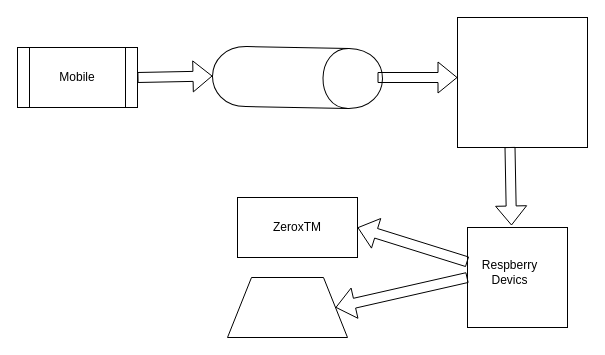
Some shapes in this 605 by 355 pixel diagram are drawn without their labels. The shapes that lost their labels are listed below. From the top down, each one's centre as x and y in pixels, then its label:
point (522, 82): Backend Services On cloud
point (287, 307): Printer
